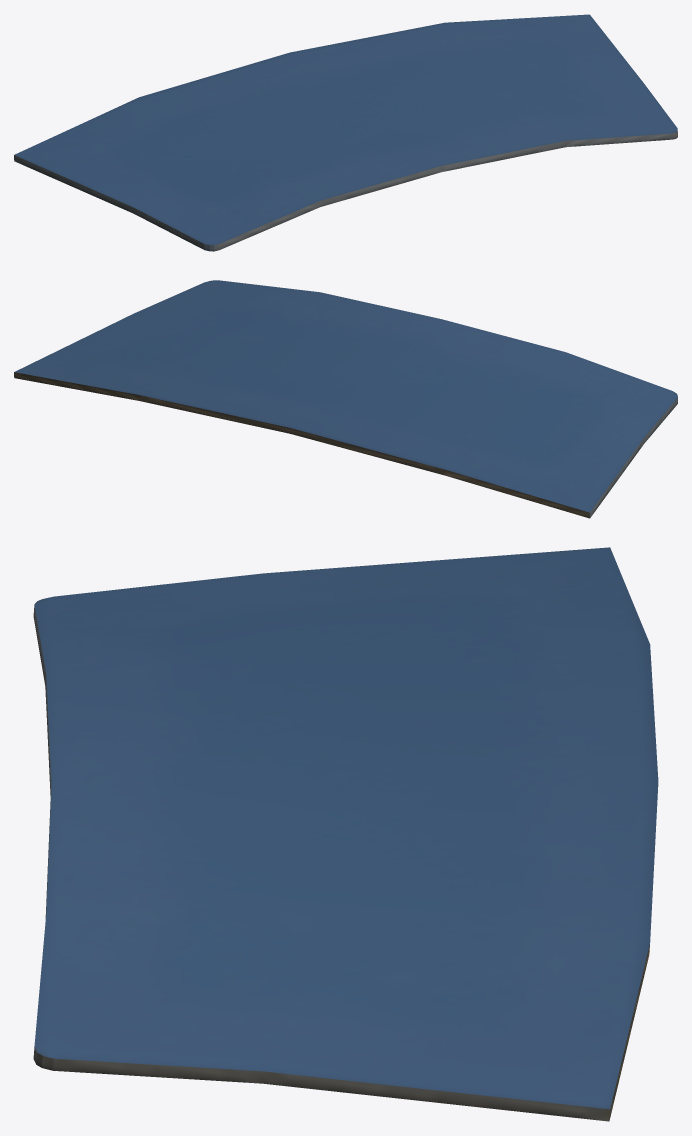
File: CavalierFrontWindshield_WorldItem.fbx
The picture shows the model from 3 angles, top to bottom: view 1: azimuth 30°, elevation 25°; view 2: azimuth 150°, elevation 25°; view 3: azimuth 270°, elevation 25°; orthographic projection. The views are drawn at different scales.
Parts seen in each view (by area): view 1: Windshield_obj; view 2: Windshield_obj; view 3: Windshield_obj.
Part boxes in pixels (x1,y1,x2,y2): Windshield_obj: [14, 14, 677, 251]; Windshield_obj: [14, 280, 677, 518]; Windshield_obj: [33, 547, 658, 1121].
Bounding box in the file's own units: 1.71 × 0.0836 × 0.8028.
